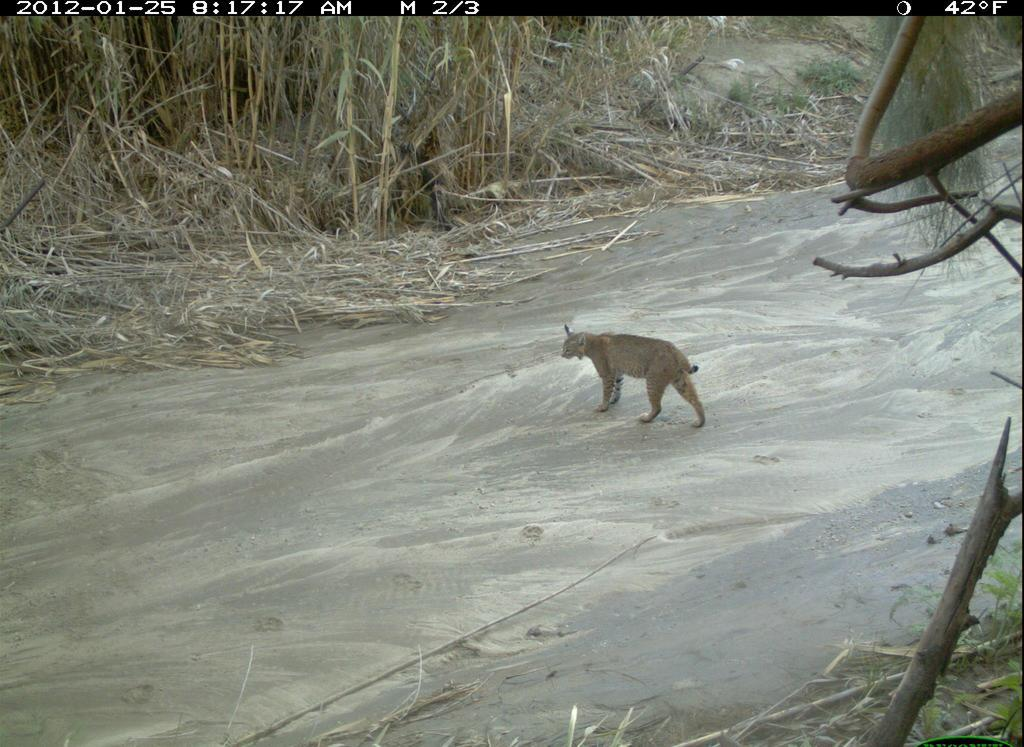bobcat: (557, 317, 711, 434)
